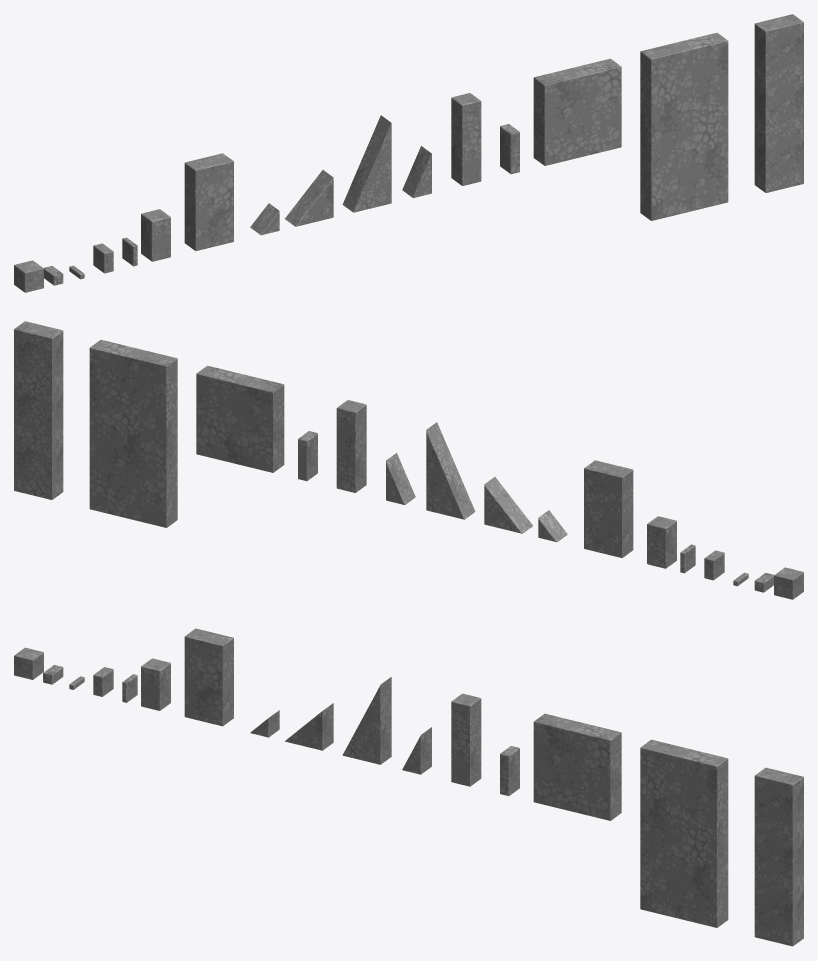
Rendered from generic_blocks.FBX.
3 renders of one model, top to bottom at view 1: azimuth 30°, elevation 25°; view 2: azimuth 150°, elevation 25°; view 3: azimuth 330°, elevation 25°, orthographic.
Parts seen in each view (by area): view 1: g_block_16x32, g_block_8x32, g_block_16x16, g_block_8x16, g_block_tr_8x16, g_block_tr_4x16, g_block_tr_8x8, g_block_4x8, g_block_tr_4x8, g_block_tr_2x8, g_block_4x4, g_block_tr_4x4 (+1 smaller); view 2: g_block_16x32, g_block_8x32, g_block_16x16, g_block_8x16, g_block_tr_8x16, g_block_tr_4x16, g_block_tr_8x8, g_block_4x8, g_block_tr_4x8, g_block_tr_2x8, g_block_4x4, g_block_tr_4x4 (+1 smaller); view 3: g_block_16x32, g_block_8x32, g_block_16x16, g_block_8x16, g_block_tr_4x16, g_block_tr_8x16, g_block_4x8, g_block_tr_8x8, g_block_tr_2x8, g_block_tr_4x8, g_block_4x4.
Boxes of the visible parts, <box> form: g_block_16x32: <box>640,32,728,220</box>; g_block_8x32: <box>754,14,803,192</box>; g_block_16x16: <box>533,58,621,165</box>; g_block_8x16: <box>184,153,233,250</box>; g_block_tr_8x16: <box>342,115,391,212</box>; g_block_tr_4x16: <box>451,93,481,185</box>; g_block_tr_8x8: <box>285,170,333,226</box>; g_block_4x8: <box>141,209,170,261</box>; g_block_tr_4x8: <box>402,146,431,197</box>; g_block_tr_2x8: <box>500,124,519,174</box>; g_block_4x4: <box>14,260,43,292</box>; g_block_tr_4x4: <box>250,203,279,235</box>; g_block_16x32: <box>89,339,177,527</box>; g_block_8x32: <box>14,321,63,499</box>; g_block_16x16: <box>196,365,284,472</box>; g_block_8x16: <box>584,460,633,557</box>; g_block_tr_8x16: <box>426,422,475,519</box>; g_block_tr_4x16: <box>336,400,366,492</box>; g_block_tr_8x8: <box>484,477,532,533</box>; g_block_4x8: <box>647,516,676,568</box>; g_block_tr_4x8: <box>386,453,415,504</box>; g_block_tr_2x8: <box>298,431,317,481</box>; g_block_4x4: <box>774,567,803,599</box>; g_block_tr_4x4: <box>538,510,567,542</box>; g_block_16x32: <box>640,739,728,927</box>; g_block_8x32: <box>754,767,803,946</box>; g_block_16x16: <box>533,713,621,820</box>; g_block_8x16: <box>184,628,233,726</box>; g_block_tr_4x16: <box>451,693,481,786</box>; g_block_tr_8x16: <box>342,677,391,764</box>; g_block_4x8: <box>141,658,170,710</box>; g_block_tr_8x8: <box>285,703,333,750</box>; g_block_tr_2x8: <box>500,746,519,795</box>; g_block_tr_4x8: <box>402,727,431,774</box>; g_block_4x4: <box>14,647,43,679</box>.
Bounding box in the file's own units: 161 × 32 × 4.
1 material, 1 textured.
